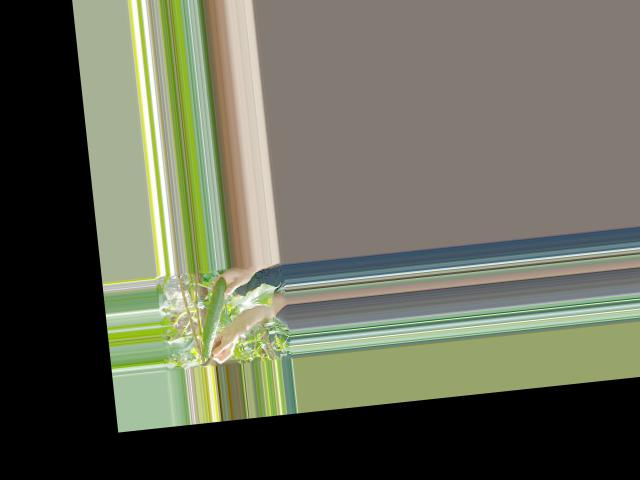cucumber: (195, 276, 234, 357)
